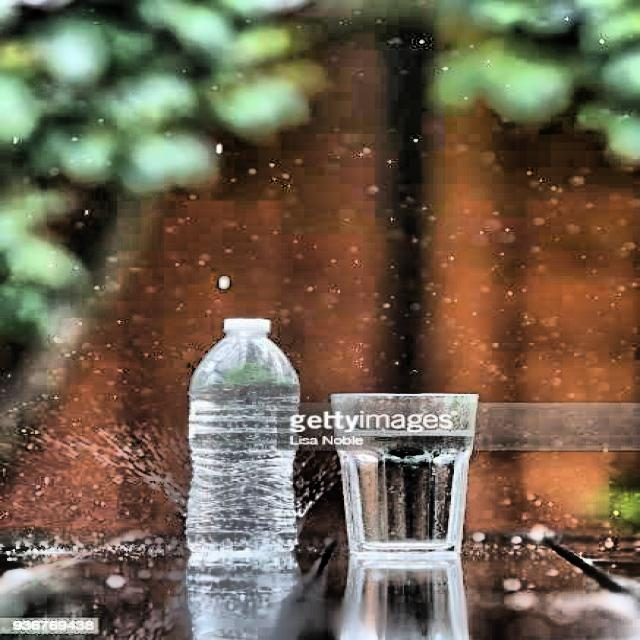Bottles: (180, 313, 308, 556)
